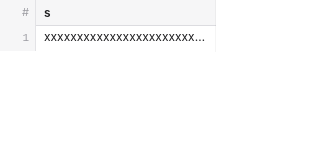
it: ResultsTable row-number gutter › shows the tooltip when the text is cut off
The image size is (320, 160).
Step 1. Hover over the text with class "chg-cell-text" → (126, 37), box top-left (44, 29), bottom-right (207, 46)
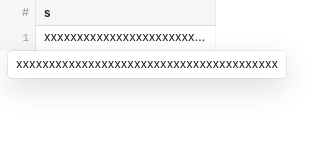
Result: the tooltip is shown at top-left (8, 51), bottom-right (286, 77)
